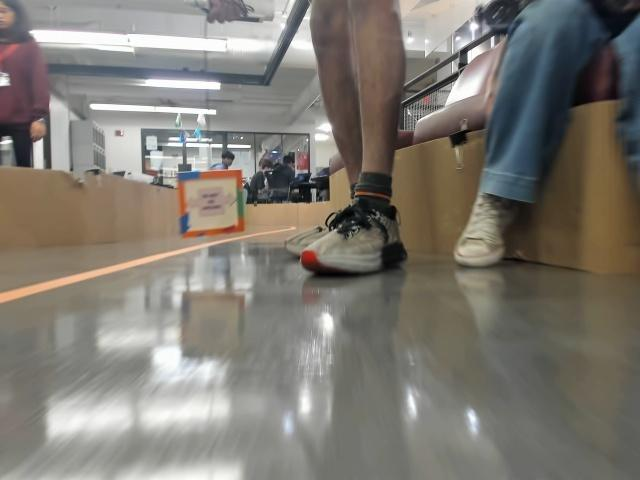Do Not Go Around: (186, 190, 233, 219)
